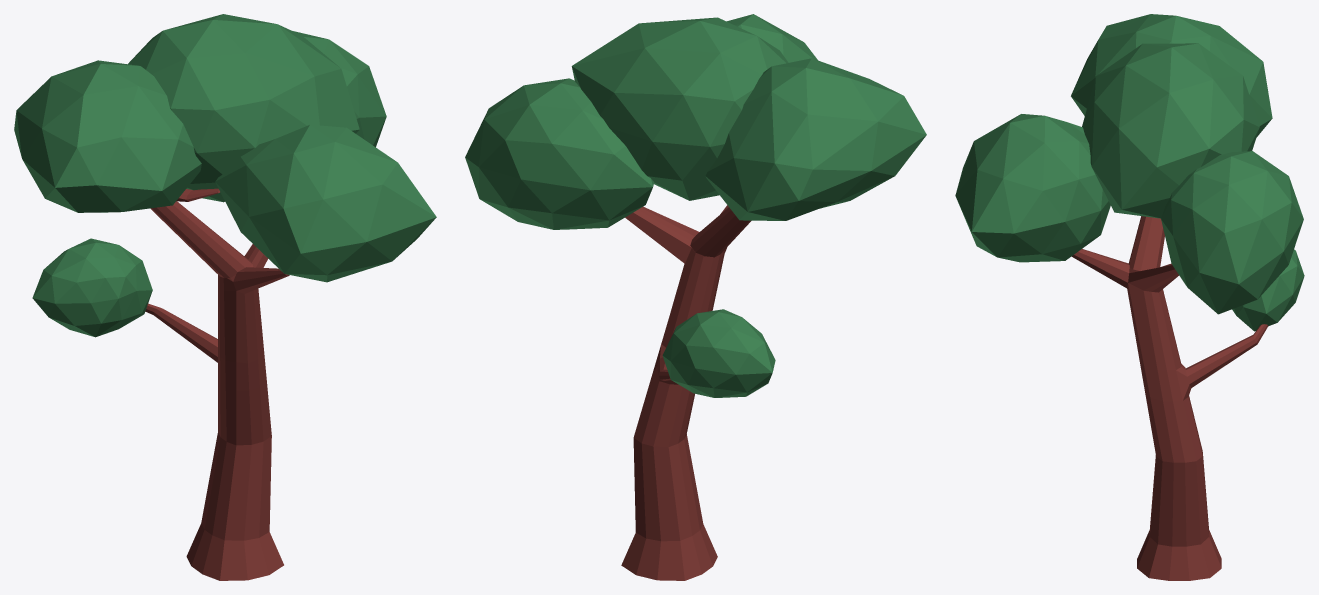
Rendered from tree-first-pass.fbx.
The picture shows the model from 3 angles, left to right: view 1: azimuth 30°, elevation 25°; view 2: azimuth 150°, elevation 25°; view 3: azimuth 270°, elevation 25°; orthographic projection. The views are drawn at different scales.
Parts seen in each view (by area): view 1: Cube; view 2: Cube; view 3: Cube.
Boxes of the visible parts, left/top/right/bottom form: Cube: left=14, top=14, right=436, bottom=580; Cube: left=465, top=14, right=926, bottom=580; Cube: left=955, top=14, right=1304, bottom=580.
Size of the model in its own units: 2480 by 3302 by 2071.
